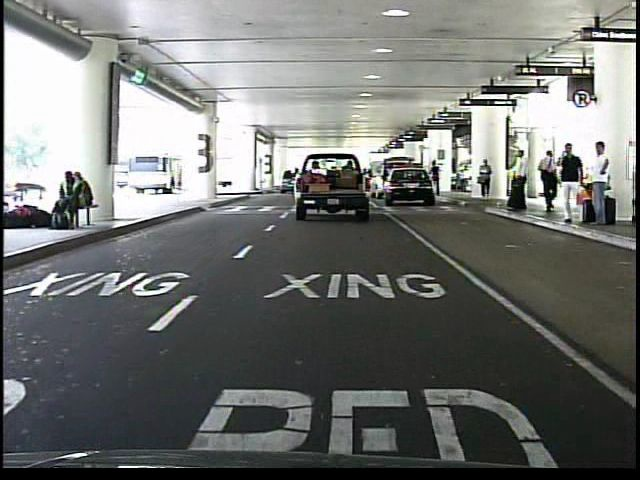person: (553, 141, 587, 230), (586, 136, 614, 233), (538, 145, 563, 215), (506, 147, 532, 214), (477, 159, 495, 204), (430, 161, 442, 199)
